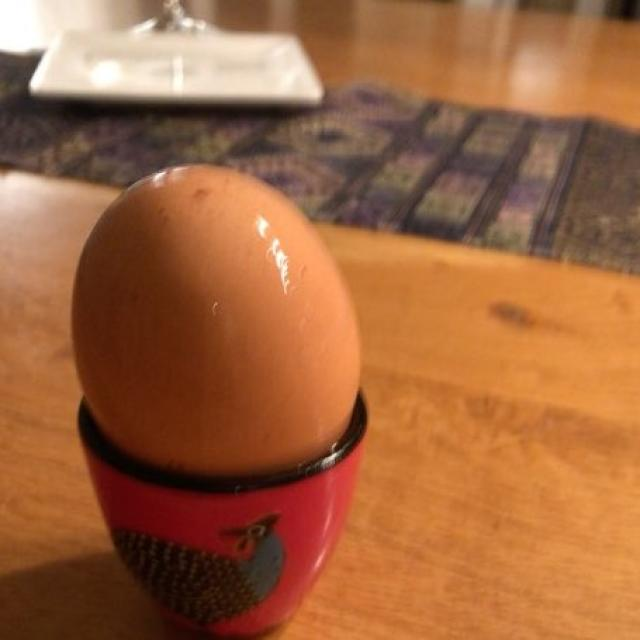egg: (73, 73, 476, 355)
